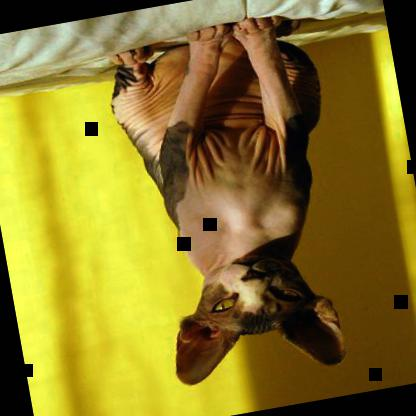cat: (99, 6, 369, 396)
